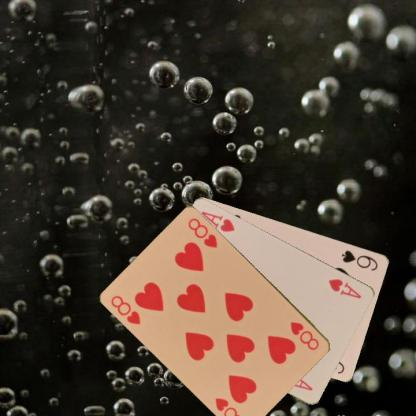6s: (339, 247, 380, 272)
8h: (108, 293, 142, 326), (288, 319, 320, 352)
Ah: (326, 275, 363, 300)
